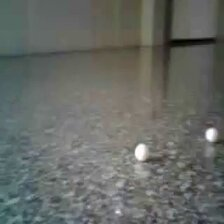w: (134, 144, 149, 162), (205, 127, 219, 143)
